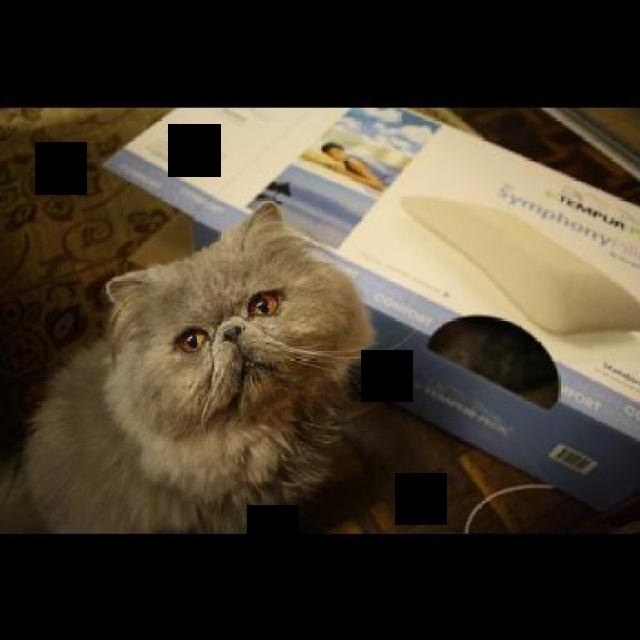unauthorized: (0, 198, 406, 534)
